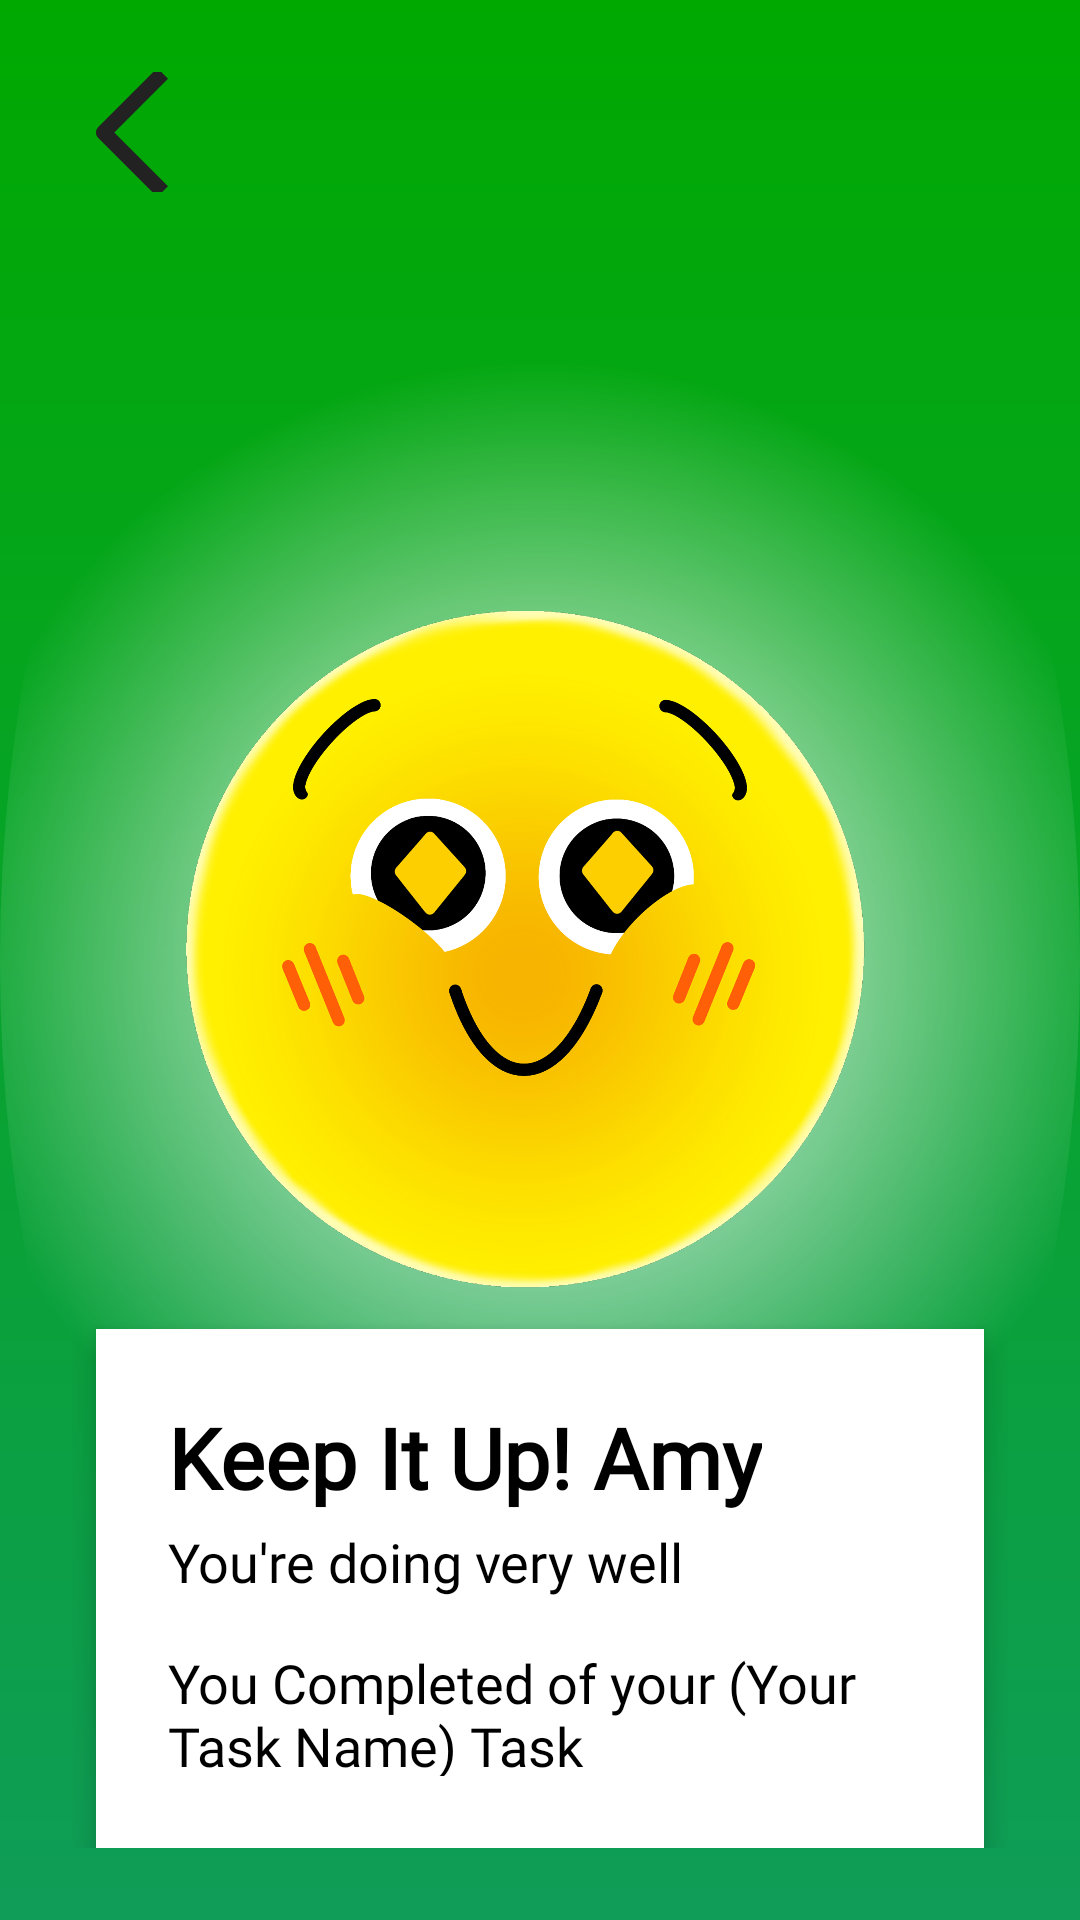

Icon click points for this 1080w x 1920h phone screenshot, format (x,y):
Back: (132,132)
